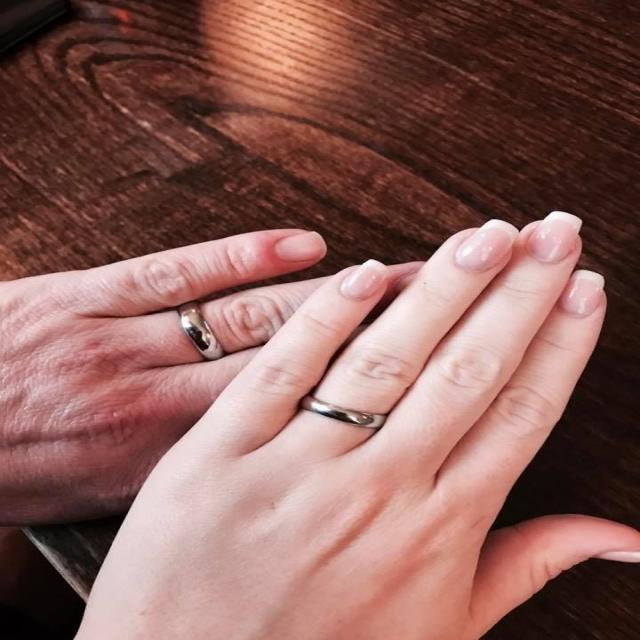Fingernail: (455, 220, 518, 274), (529, 211, 581, 263), (560, 270, 604, 317), (340, 259, 386, 301), (274, 231, 327, 261)
